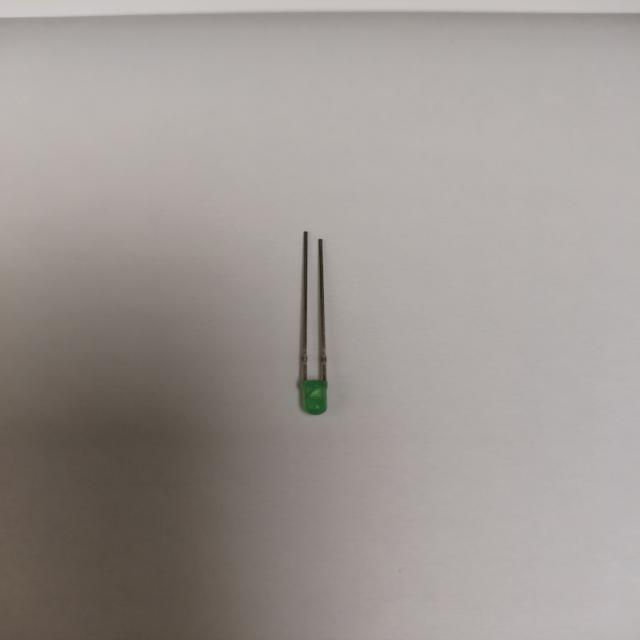led: (278, 220, 342, 426)
